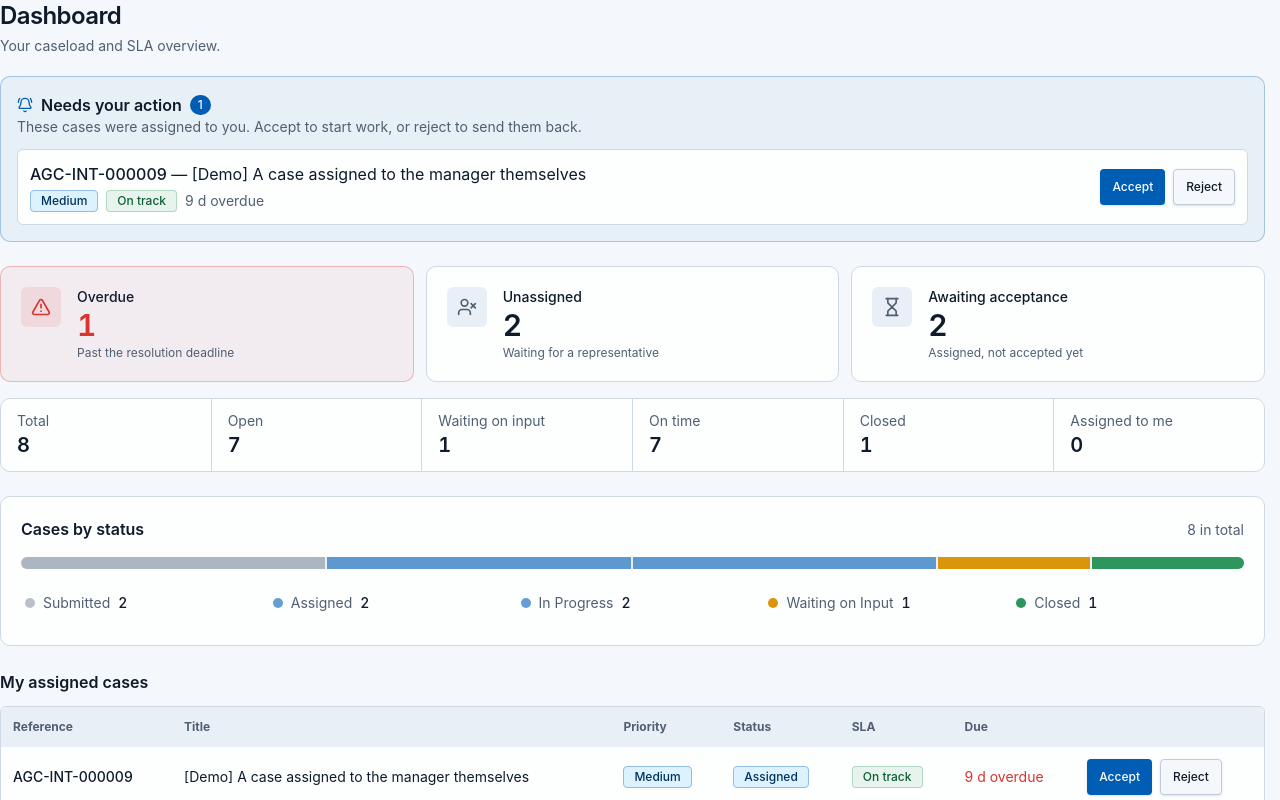
Test: accepting a case from the dashboard panel, then opening it › shows the case already accepted - no stale Accept/Reject - on a manager's own assigned case
// Accept it right from the "Needs your action" dashboard panel.
What coordinates should you click on to do the following:
click the 1st button "Accept"
I would click on:
 (1133, 187)
Its box is [1100, 169, 1165, 205].
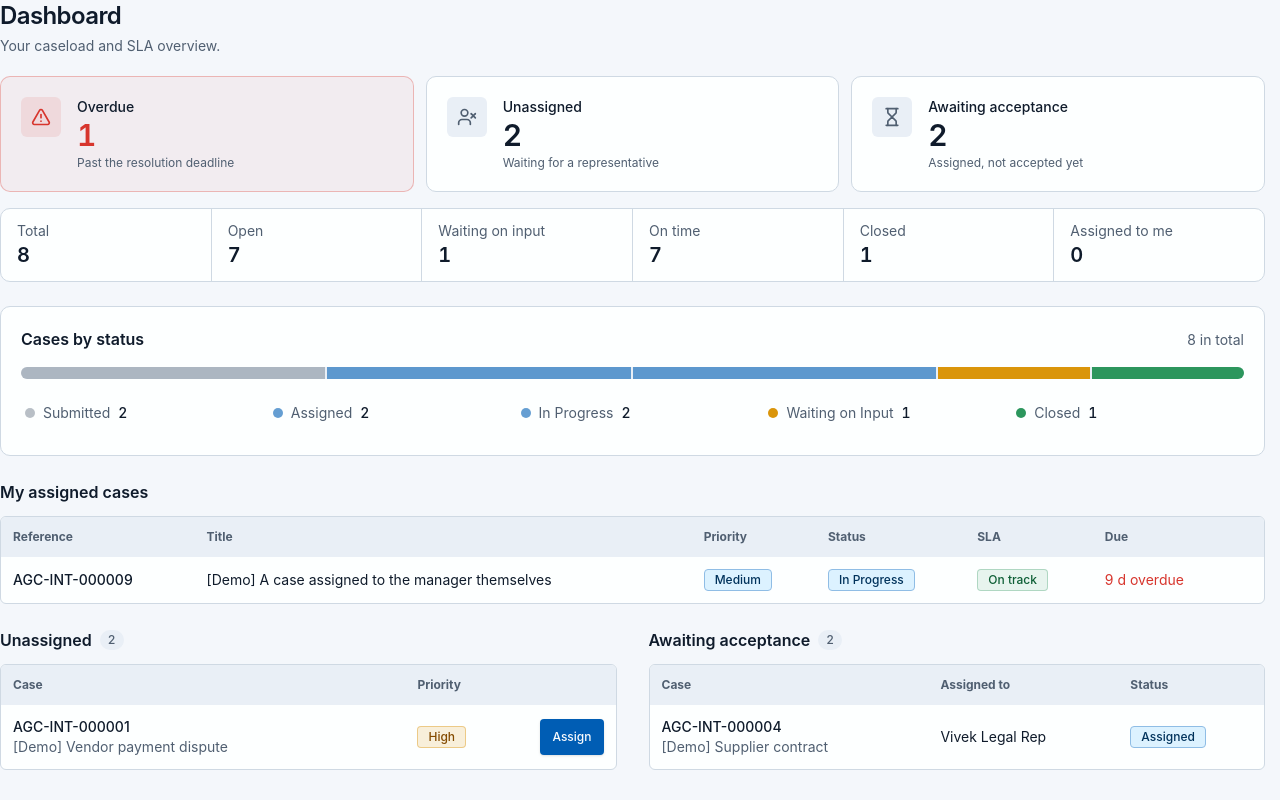
Expected: the text "In Progress" in the row of "Submitted" is shown, [539, 404, 614, 420]
Now the heading "Needs your action" is gone
// Now open the case - a fresh navigation, not a reload.
What coordinates should you click on to do the following:
click the link "AGC-INT-000009"
I would click on:
 (73, 579)
Its box is [13, 570, 133, 588].
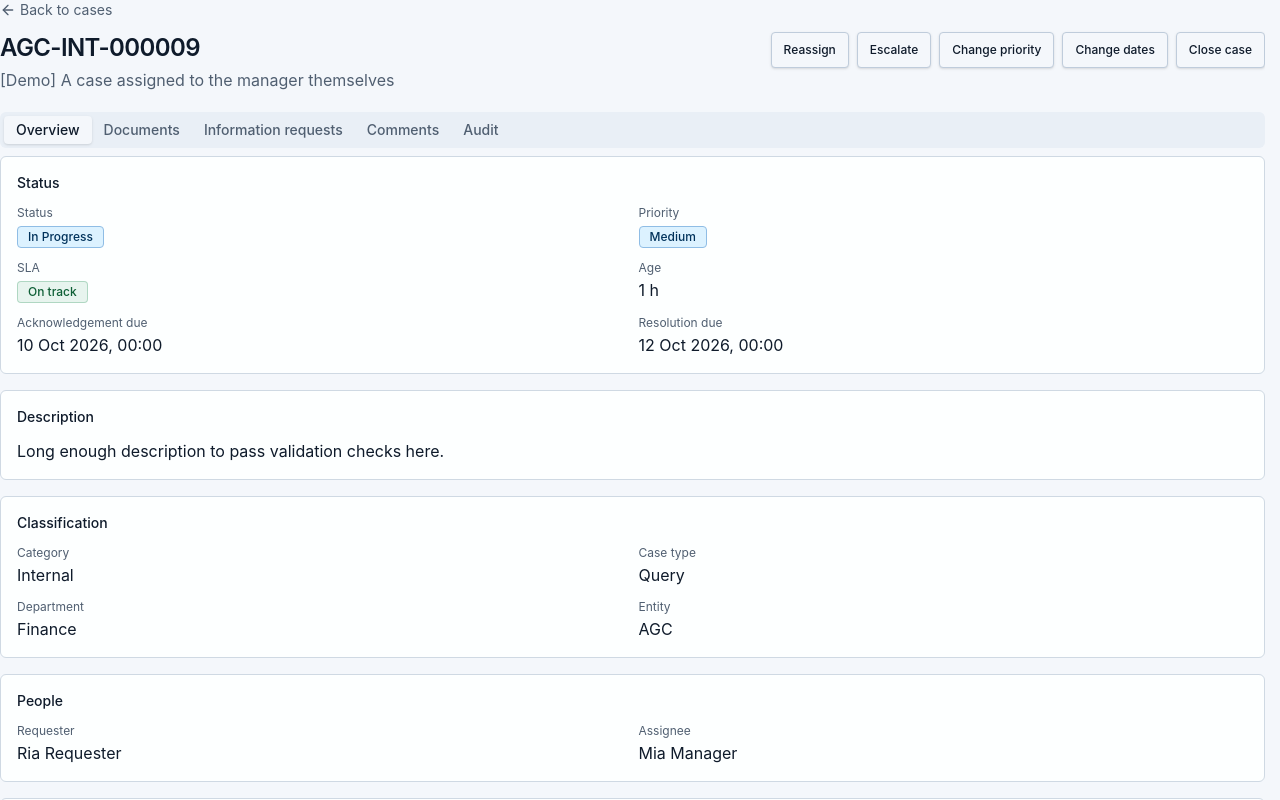
Expected: the button "Accept" is not shown
Now the heading "AGC-INT-000009" is shown, box [0, 32, 200, 64]
